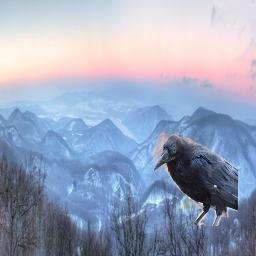Crow: (153, 132, 238, 226)
